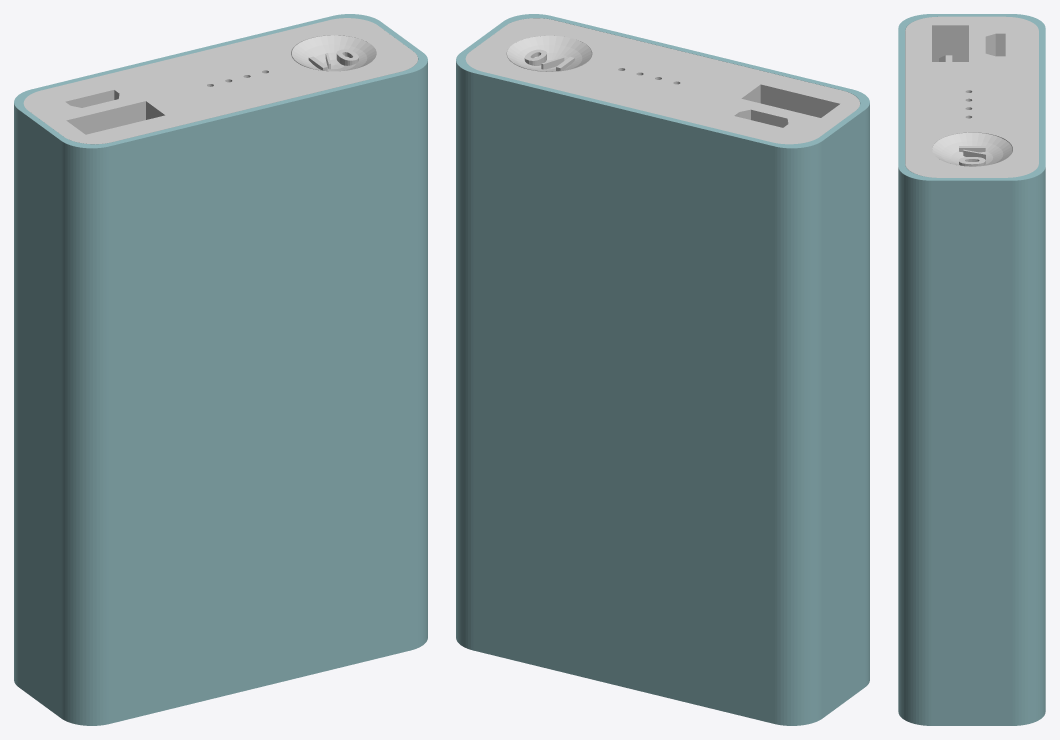
The model's file is power_bank.glb.
The picture shows the model from 3 angles, left to right: view 1: azimuth 30°, elevation 25°; view 2: azimuth 150°, elevation 25°; view 3: azimuth 270°, elevation 25°; orthographic projection. The views are drawn at different scales.
Parts seen in each view (by area): view 1: Mesh_Mesh_head_geo.001_lambert2SG.001; view 2: Mesh_Mesh_head_geo.001_lambert2SG.001; view 3: Mesh_Mesh_head_geo.001_lambert2SG.001.
Part boxes in pixels (<box>): Mesh_Mesh_head_geo.001_lambert2SG.001: <box>14,14,427,725</box>; Mesh_Mesh_head_geo.001_lambert2SG.001: <box>456,14,869,725</box>; Mesh_Mesh_head_geo.001_lambert2SG.001: <box>898,14,1045,725</box>.
Size of the model in its own units: 59 by 90.01 by 22.
